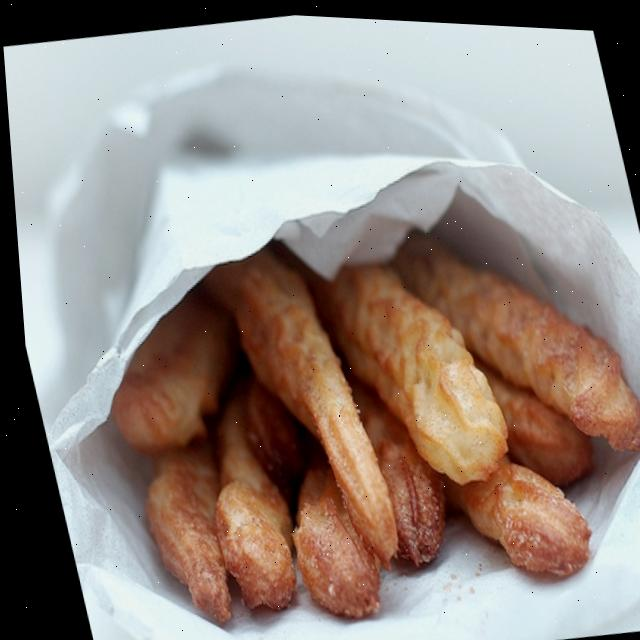炸货点心: (34, 145, 640, 640)
